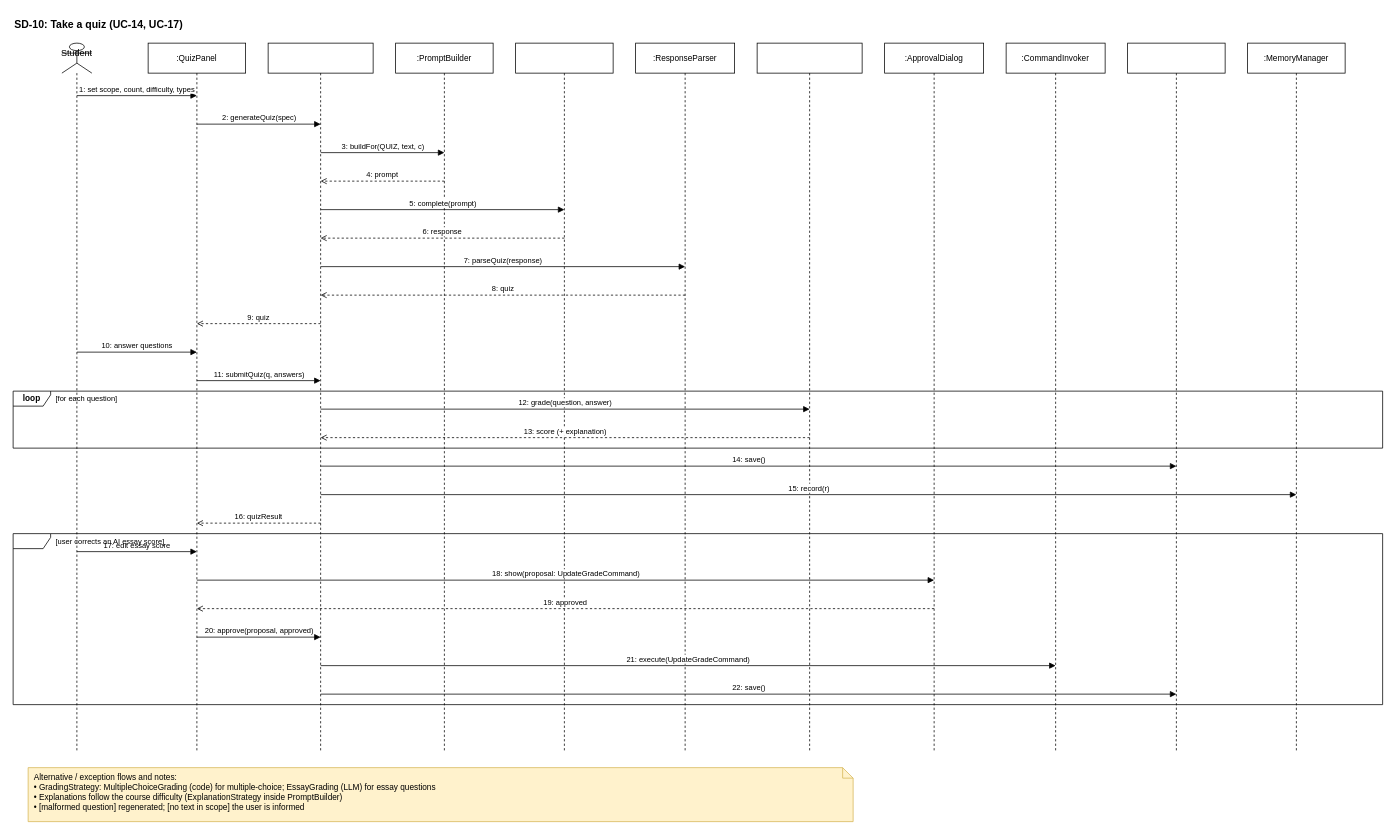
Image size: 1396x835. Some labels were removed from this diagram. The shapes that lost their labels are listed below. From the top down, each one's box as (x1, y1, x2, y2) in pixels, then its label:
(267, 42, 373, 753): :AgentController
(515, 42, 613, 753): :LLMClient
(756, 42, 862, 753): :GradingStrategy
(1127, 42, 1225, 753): :DataStore
(12, 533, 1383, 705): opt
